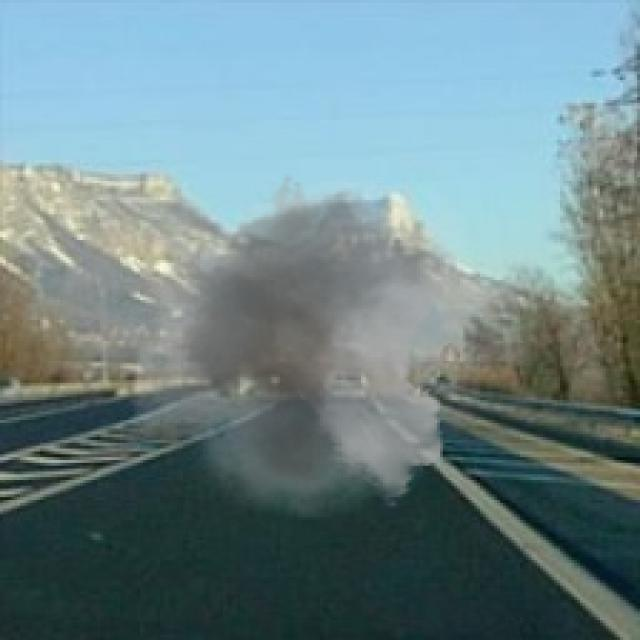Smoke: (111, 163, 528, 520)
